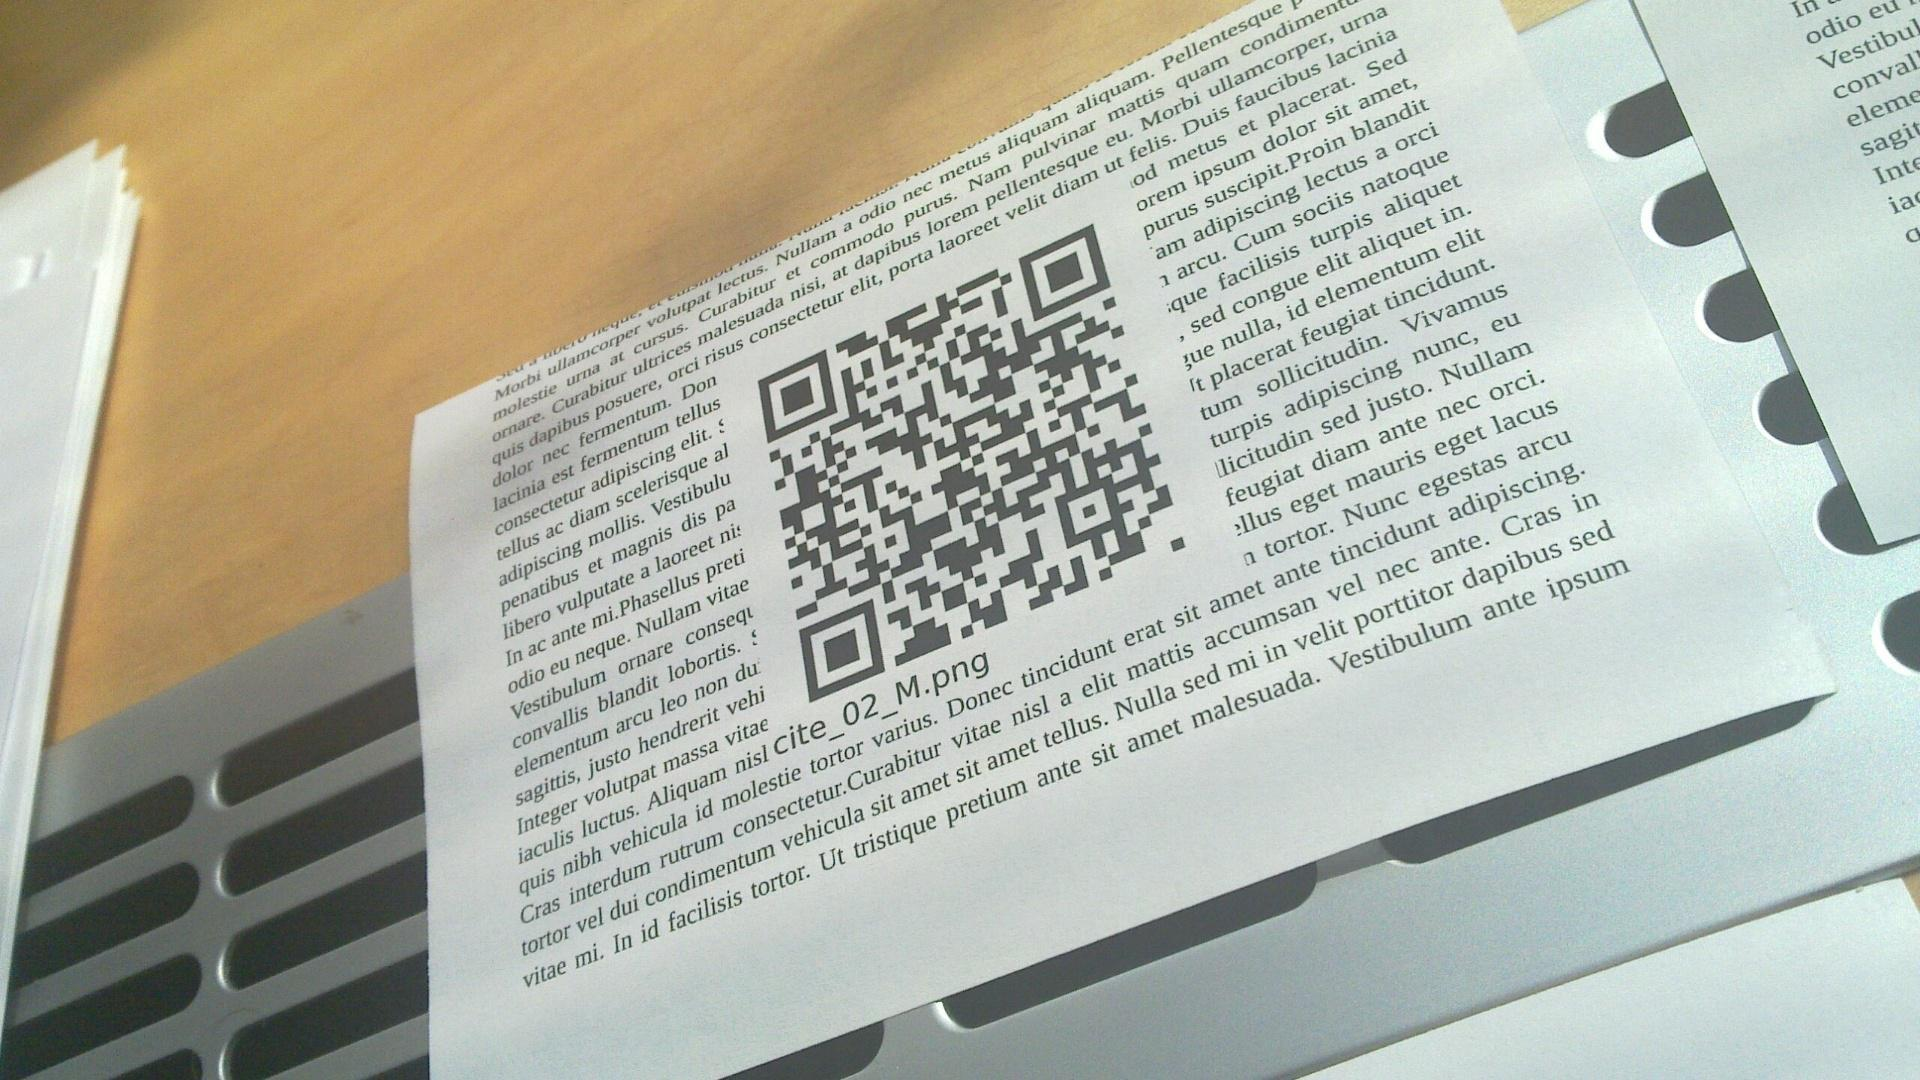qr_code: (760, 223, 1188, 704)
